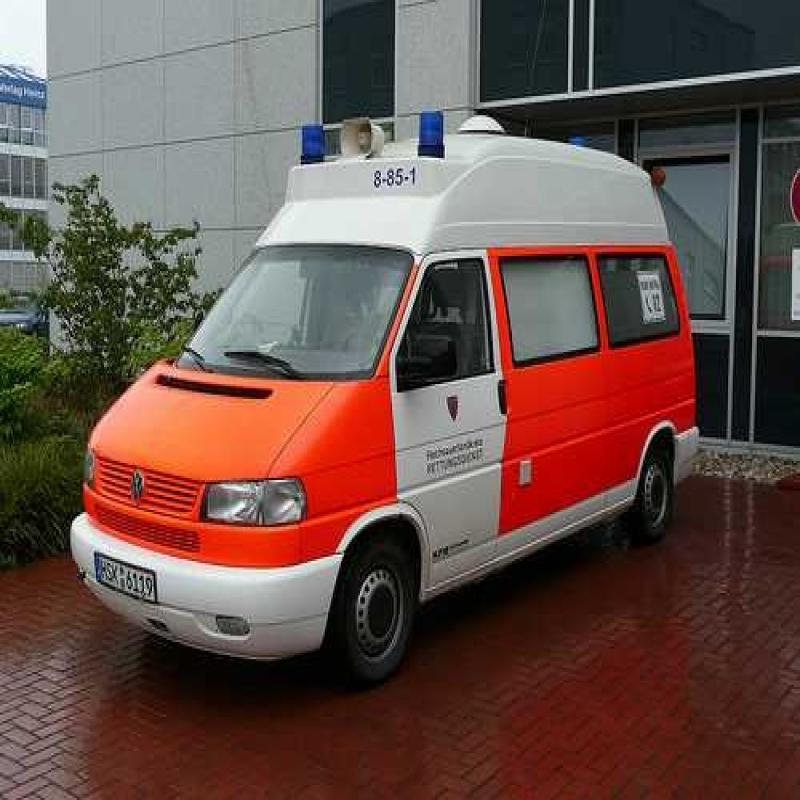AmbulanceSiren: (275, 79, 453, 178)
